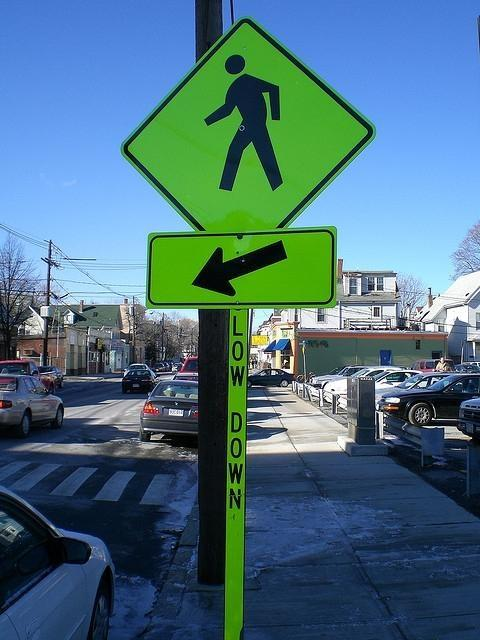car: (0, 483, 116, 640), (37, 364, 296, 388), (376, 376, 480, 425), (0, 374, 66, 436), (139, 380, 199, 442), (323, 366, 403, 409), (378, 367, 430, 396), (458, 386, 480, 443), (308, 366, 362, 388), (122, 369, 154, 394), (172, 357, 198, 380), (123, 362, 151, 377)
truck: (1, 355, 40, 390), (410, 359, 456, 374)
